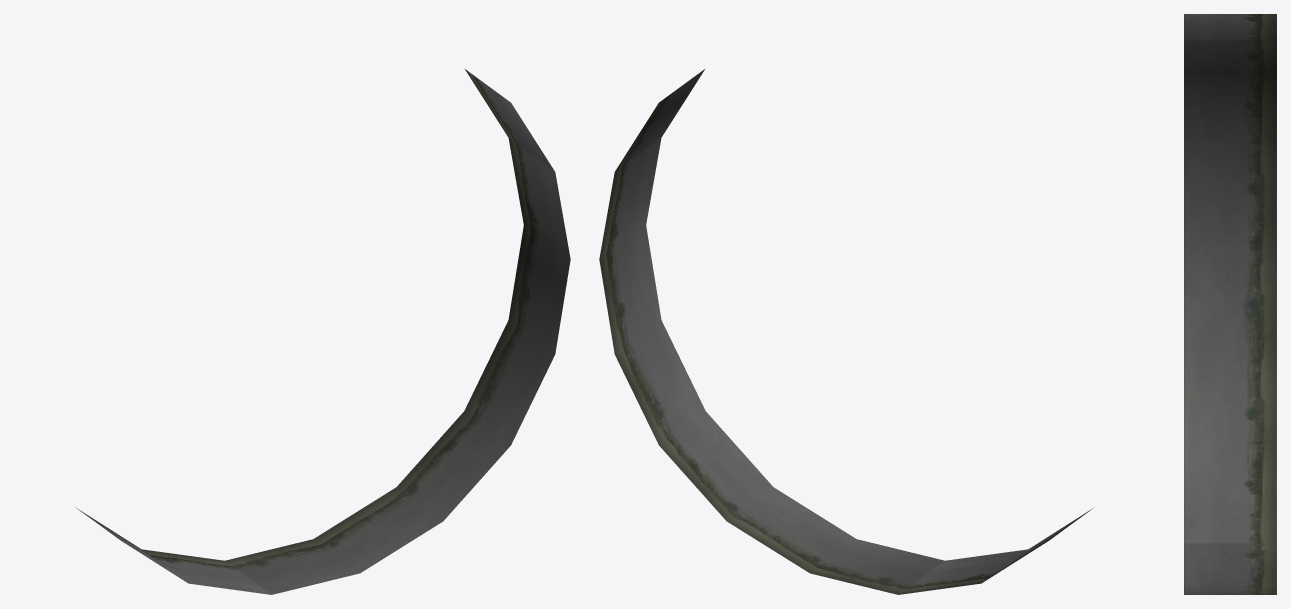
File: backdrop_silotown_trees.glb
3 renders of one model, left to right at view 1: azimuth 30°, elevation 25°; view 2: azimuth 150°, elevation 25°; view 3: azimuth 270°, elevation 25°, orthographic.
Bounding box in the file's own units: 21656 × 21327 × 3447.
Materials: 1 (1 with a texture image).
